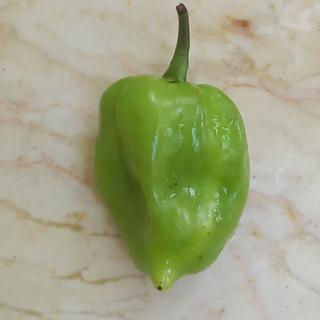Grade-A: (91, 74, 259, 296)
